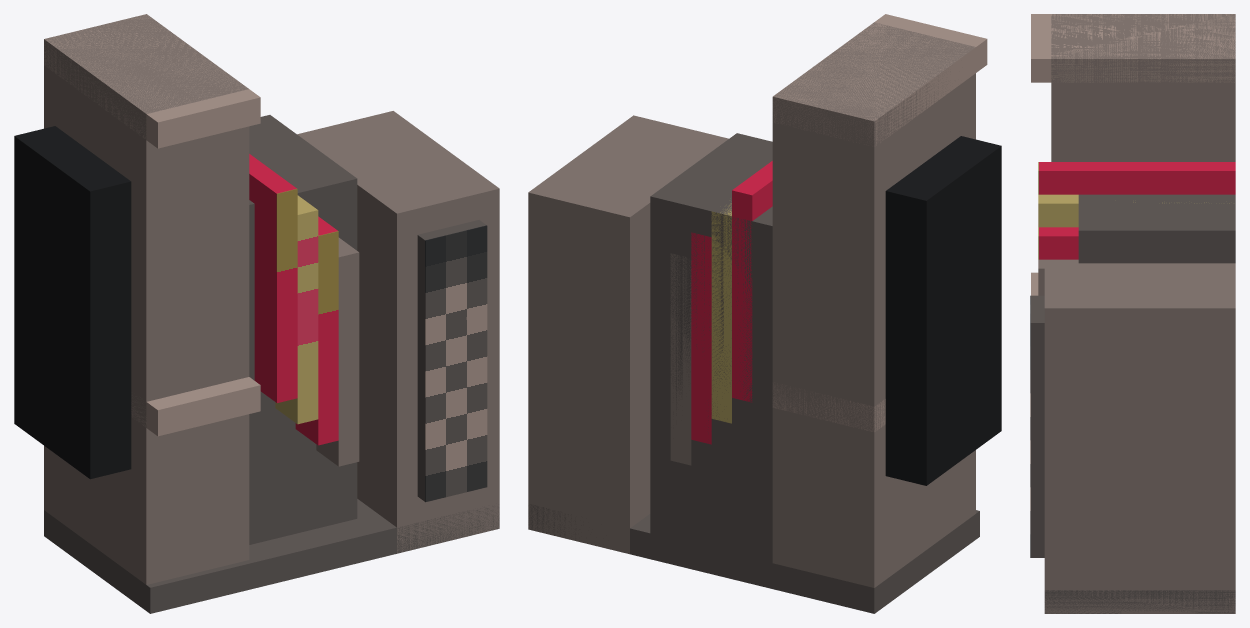
The model's file is CMU3DDropshipNavigationCloudEast.glb.
3 renders of one model, left to right at view 1: azimuth 30°, elevation 25°; view 2: azimuth 150°, elevation 25°; view 3: azimuth 270°, elevation 25°, orthographic. The views are drawn at different scales.
Visible parts, largest first — view 1: side stepped rear body, keyboard end body, rear side connector, side main screen backing, side keyboard keys source detail, lower connected console rail, raised side upper rim, narrow visible side display 0 substrate, narrow visible side display 0 source detail, narrow visible side display 1 source detail, narrow visible side display 3 source detail, narrow visible side display 2 source detail (+2 smaller); view 2: side stepped rear body, keyboard end body, rear side connector, side main screen backing, raised side upper rim, lower connected console rail, narrow visible side display 0 substrate, narrow visible side display 1 substrate, narrow visible side display 2 substrate, narrow visible side display 3 substrate, raised side lower rim; view 3: keyboard end body, side stepped rear body, side main screen backing, raised side upper rim, narrow visible side display 0 substrate, lower connected console rail, side keyboard keys substrate, narrow visible side display 1 substrate, narrow visible side display 2 substrate, narrow visible side display 3 substrate.
Boxes of the visible parts, x1,y1,x2,y2 form: side stepped rear body: (44, 14, 249, 584); keyboard end body: (297, 111, 499, 553); rear side connector: (14, 126, 131, 479); side main screen backing: (249, 115, 357, 544); side keyboard keys source detail: (425, 225, 487, 502); lower connected console rail: (44, 499, 499, 613); raised side upper rim: (44, 14, 260, 148); narrow visible side display 0 substrate: (249, 154, 296, 402); narrow visible side display 0 source detail: (276, 189, 297, 402); narrow visible side display 1 source detail: (297, 210, 318, 424); narrow visible side display 3 source detail: (338, 252, 359, 466); narrow visible side display 2 source detail: (317, 231, 338, 445); side stepped rear body: (772, 22, 975, 587); keyboard end body: (528, 115, 728, 554); rear side connector: (885, 136, 1001, 485); side main screen backing: (650, 133, 772, 562); raised side upper rim: (772, 14, 987, 146); lower connected console rail: (528, 504, 979, 613); narrow visible side display 0 substrate: (732, 161, 772, 402); narrow visible side display 1 substrate: (711, 203, 731, 423); narrow visible side display 2 substrate: (691, 232, 711, 444); narrow visible side display 3 substrate: (670, 253, 691, 465); raised side lower rim: (772, 382, 885, 431); keyboard end body: (1044, 263, 1235, 613); side stepped rear body: (1051, 14, 1235, 161); side main screen backing: (1078, 194, 1235, 263); raised side upper rim: (1031, 14, 1235, 82); narrow visible side display 0 substrate: (1039, 162, 1235, 194); lower connected console rail: (1044, 590, 1235, 613); side keyboard keys substrate: (1031, 295, 1044, 557); narrow visible side display 1 substrate: (1039, 194, 1229, 227); narrow visible side display 2 substrate: (1039, 227, 1078, 259); narrow visible side display 3 substrate: (1039, 259, 1078, 295).
Bounding box in the file's own units: 0.5938 × 0.722 × 0.301.
10 materials, 4 textured.
